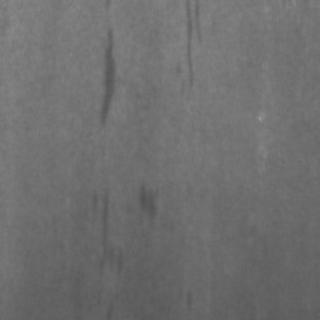inclusion: (83, 182, 123, 282), (92, 21, 125, 133), (175, 0, 208, 100), (133, 177, 161, 226)
